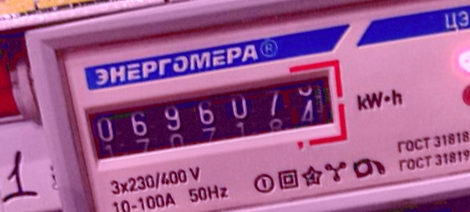0: (226, 92, 248, 125), (93, 116, 114, 147)
4: (295, 98, 316, 129)
6: (194, 98, 215, 130), (127, 110, 148, 141)
7: (260, 88, 283, 122)
9: (159, 105, 181, 136)
screen: (68, 58, 354, 181)
